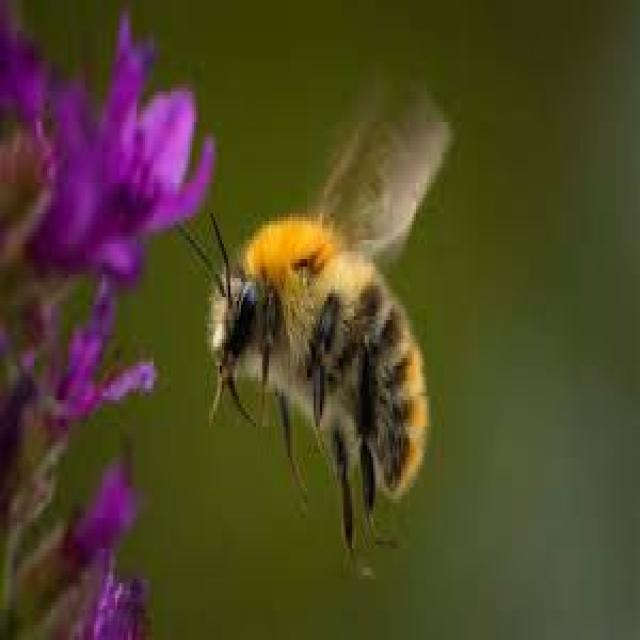Bees: (183, 95, 456, 571)
